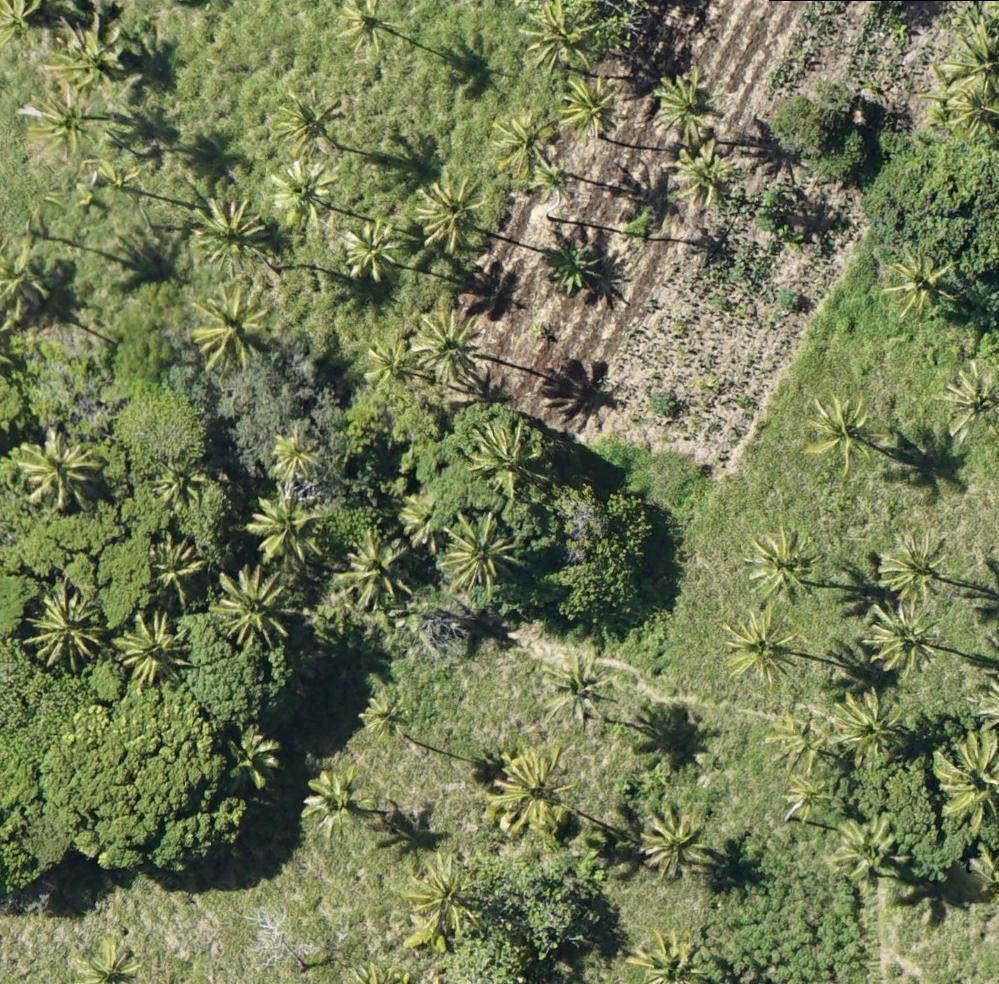Palm: (12, 425, 99, 514), (26, 587, 109, 669), (805, 397, 890, 475), (489, 755, 573, 833), (931, 728, 999, 821), (112, 609, 191, 688), (245, 495, 324, 573), (722, 611, 801, 688), (835, 684, 910, 764), (875, 531, 951, 609), (441, 513, 515, 592), (467, 421, 546, 495), (403, 858, 482, 931), (194, 192, 266, 272), (748, 530, 820, 609), (218, 572, 293, 647), (864, 603, 940, 677), (192, 292, 268, 366), (523, 3, 601, 73), (48, 17, 125, 86), (409, 314, 484, 384), (419, 174, 488, 250), (276, 93, 352, 159), (885, 248, 957, 317), (639, 806, 708, 876), (344, 537, 412, 608), (937, 367, 999, 441), (832, 819, 901, 884), (544, 653, 610, 720), (489, 111, 553, 180), (765, 711, 832, 775), (271, 159, 334, 227), (652, 72, 712, 143), (302, 772, 365, 836), (28, 93, 93, 155), (145, 539, 208, 602), (562, 79, 621, 143), (338, 219, 397, 280), (339, 3, 400, 62), (676, 146, 738, 204), (942, 75, 998, 138), (228, 725, 280, 792), (148, 459, 207, 516), (361, 330, 413, 392), (270, 429, 323, 482), (356, 692, 411, 742), (784, 778, 836, 830), (532, 161, 575, 205)
